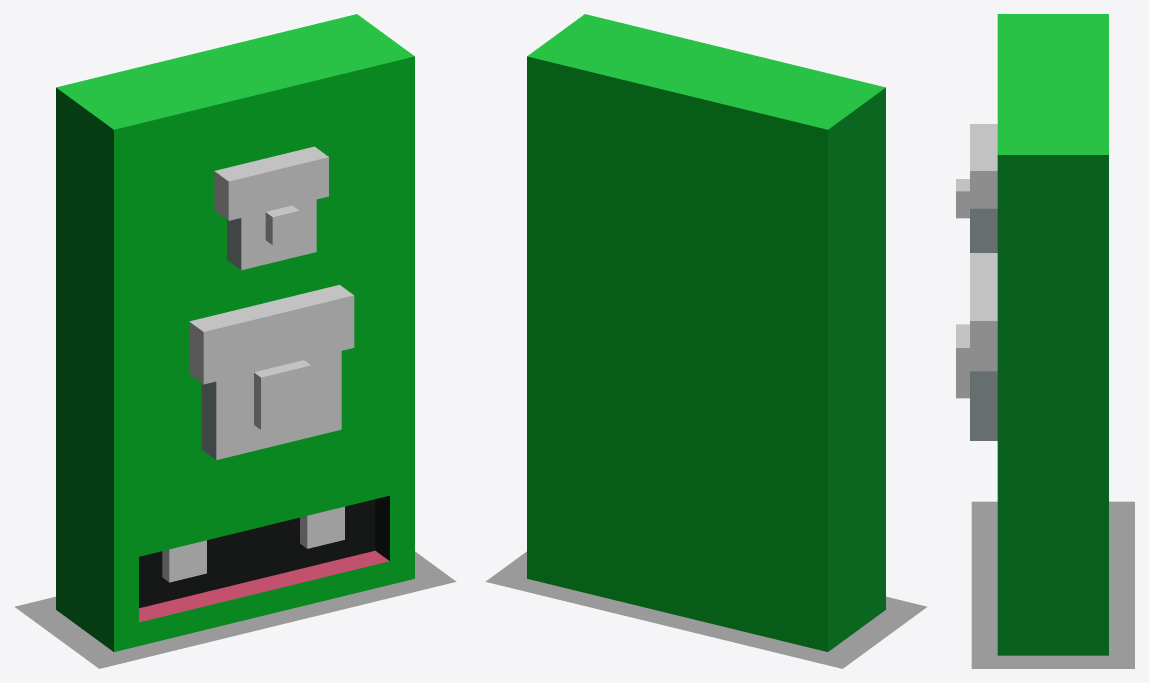
The model's file is EN_TallBit_Green.fbx.
The picture shows the model from 3 angles, left to right: view 1: azimuth 30°, elevation 25°; view 2: azimuth 150°, elevation 25°; view 3: azimuth 270°, elevation 25°; orthographic projection. The views are drawn at different scales.
Visible parts, largest first — view 1: Body, Eyebrow, Mouth, Eye, Shadow, Eyebrow_SM, Eye_SM, Pupil, Pupil_SM; view 2: Body, Shadow; view 3: Body, Shadow, Eyebrow, Eyebrow_SM, Eye, Eye_SM, Pupil, Pupil_SM.
Part boxes in pixels (<box>): Body: <box>56,14,414,651</box>; Eyebrow: <box>189,285,354,384</box>; Mouth: <box>139,550,389,645</box>; Eye: <box>201,351,341,460</box>; Shadow: <box>14,551,456,668</box>; Eyebrow_SM: <box>214,146,328,220</box>; Eye_SM: <box>227,199,316,270</box>; Pupil: <box>254,360,311,429</box>; Pupil_SM: <box>265,205,299,245</box>; Body: <box>527,14,885,651</box>; Shadow: <box>485,551,927,668</box>; Body: <box>997,14,1108,655</box>; Shadow: <box>971,501,1134,668</box>; Eyebrow: <box>970,253,997,371</box>; Eyebrow_SM: <box>970,124,997,208</box>; Eye: <box>970,371,997,440</box>; Eye_SM: <box>970,208,997,252</box>; Pupil: <box>956,324,969,398</box>; Pupil_SM: <box>956,179,969,218</box>.
Size of the model in its own units: 71.23 by 100 by 32.18.
